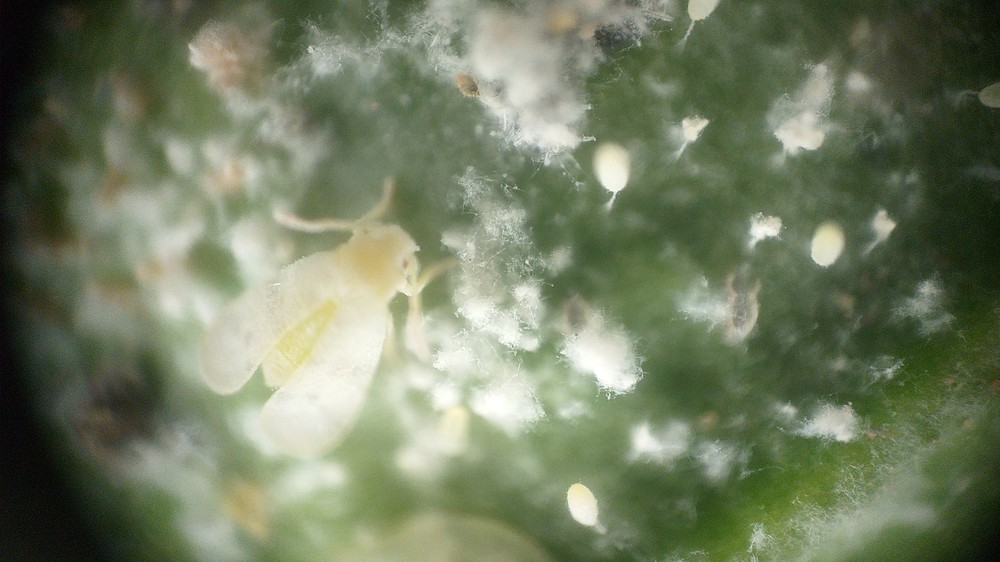Mosca Blanca: (186, 186, 469, 458)
